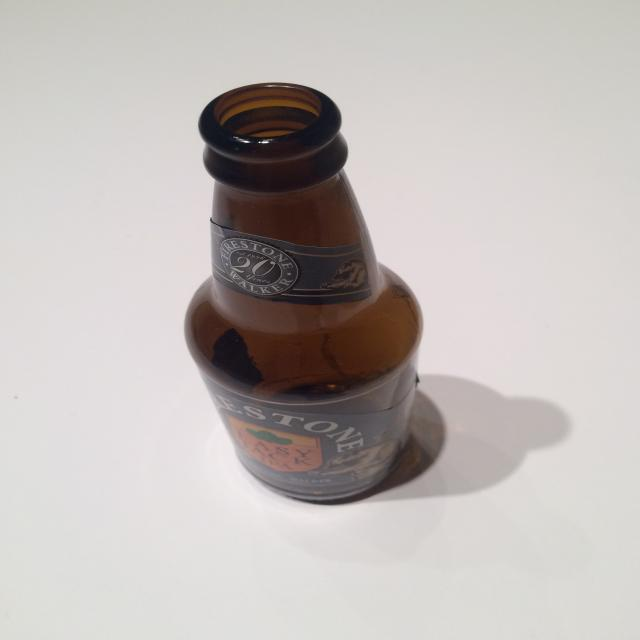glass: (182, 81, 431, 504)
